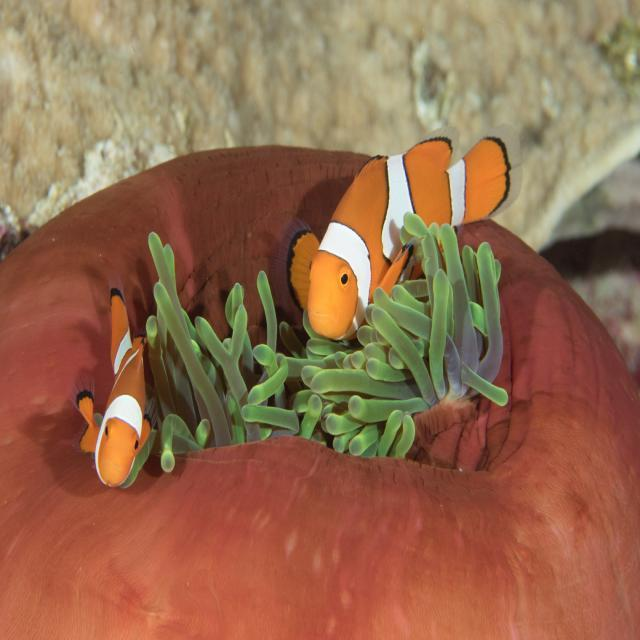ClownFish: (287, 134, 523, 342), (74, 286, 152, 486)
